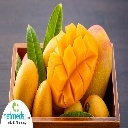mango: (46, 26, 98, 106)
